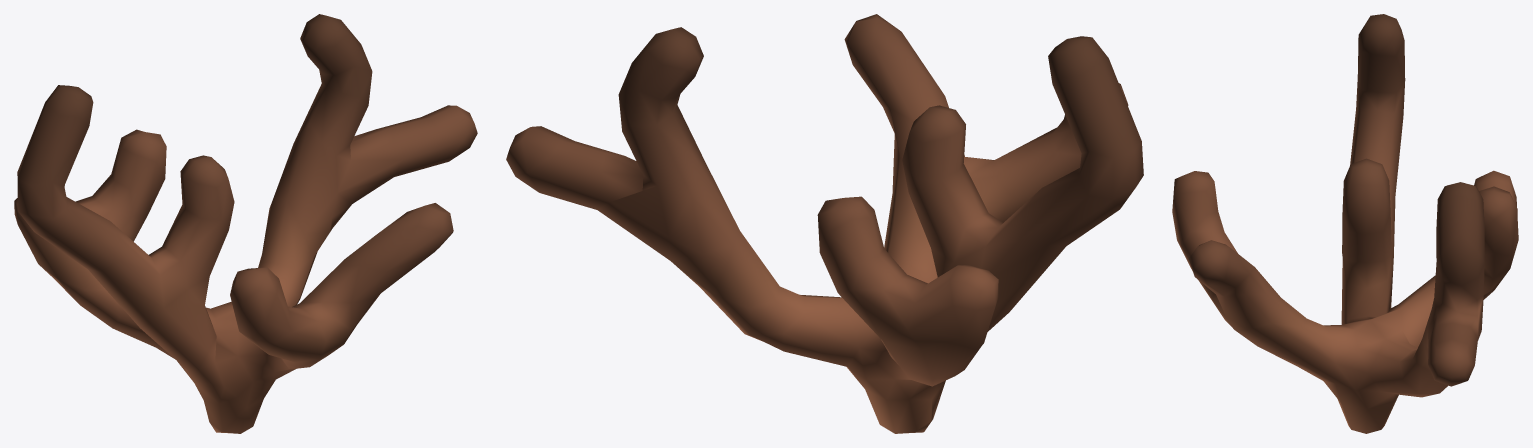
The model's file is Vera_3D-Model_DeadBush_B_UP.fbx.
3 views of the same model, side by side, from view 1: azimuth 30°, elevation 25°; view 2: azimuth 150°, elevation 25°; view 3: azimuth 270°, elevation 25° (orthographic). The views are drawn at different scales.
Visible parts, largest first — view 1: Cube.001; view 2: Cube.001; view 3: Cube.001.
Part boxes in pixels (x1,y1,x2,y2): Cube.001: (14, 14, 477, 433); Cube.001: (506, 14, 1143, 433); Cube.001: (1172, 14, 1518, 433).
Bounding box in the file's own units: 475 × 348 × 315.
Materials: 1 (1 with a texture image).
